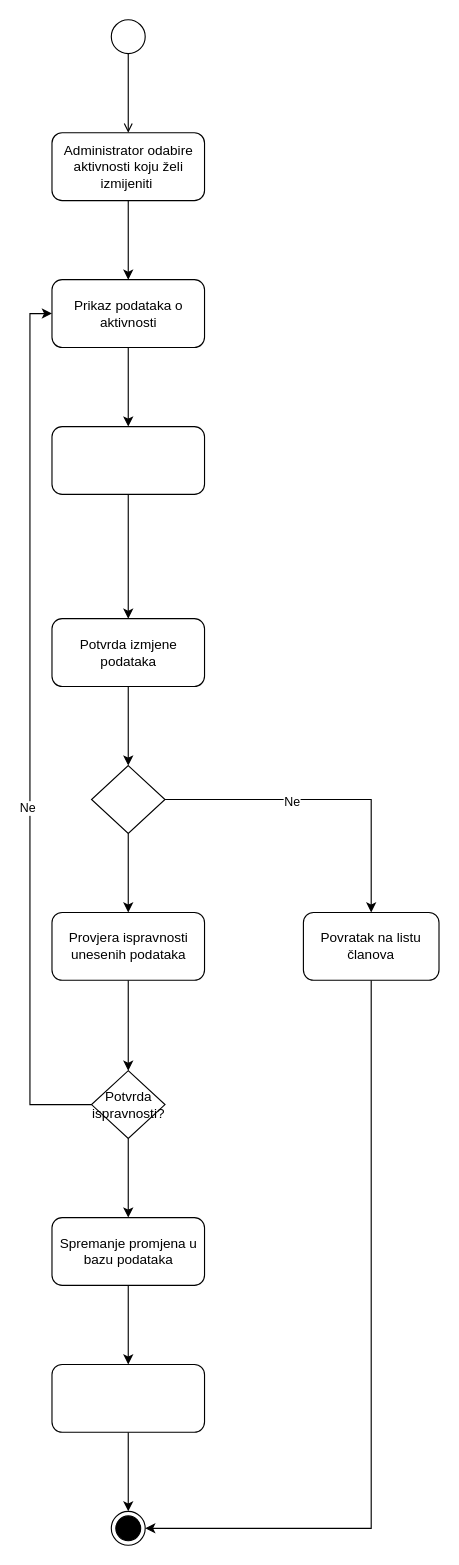
Some shapes in this 459 by 1565 pixel diagram are drawn without their labels. The shapes that lost their labels are listed below. From the top down, each one's box as (x1, y1, x2, y2) in pixels, then its label:
(51, 425, 205, 494): Izmjena željenih podataka
(90, 764, 165, 833): Potvrda izmjene?
(51, 1363, 205, 1432): Sustav prikazuje poruku o uspješnom ažuriranju aktivnosti
